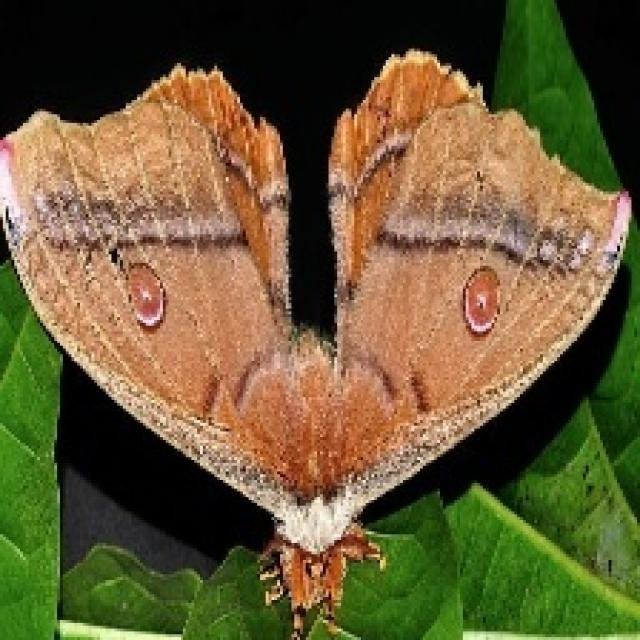butterfly: (0, 45, 634, 637)
